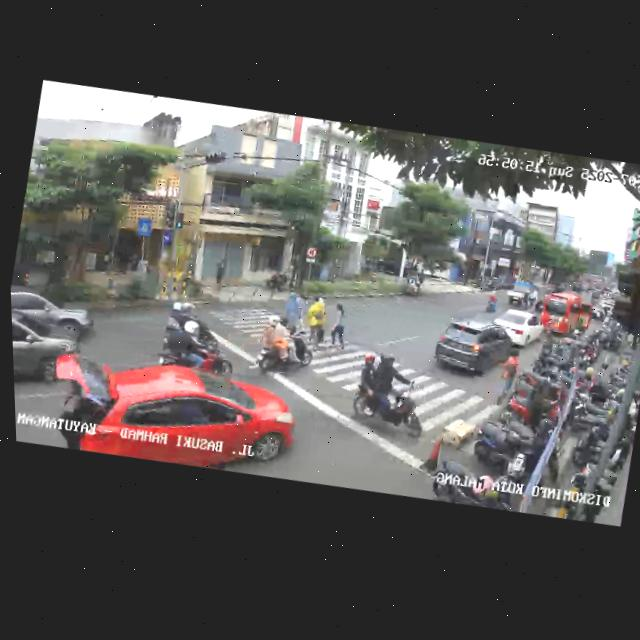car: (60, 339, 307, 492), (428, 311, 520, 389), (11, 302, 82, 393), (11, 283, 96, 342), (539, 287, 597, 342), (488, 305, 547, 353), (505, 278, 540, 312)
motorcycle: (341, 342, 433, 438), (154, 304, 242, 383), (250, 309, 320, 384), (485, 287, 502, 315)
person: (492, 347, 524, 407), (302, 293, 333, 354), (324, 305, 353, 360), (292, 287, 312, 330), (283, 291, 302, 327)
